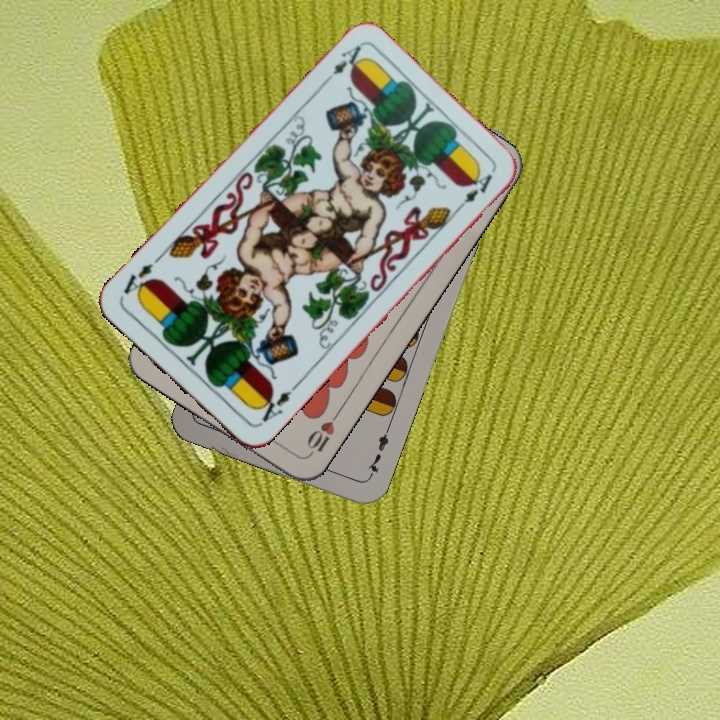E7: (363, 424, 392, 481)
EA: (251, 380, 300, 428), (318, 41, 365, 88)
H10: (302, 407, 342, 460)
